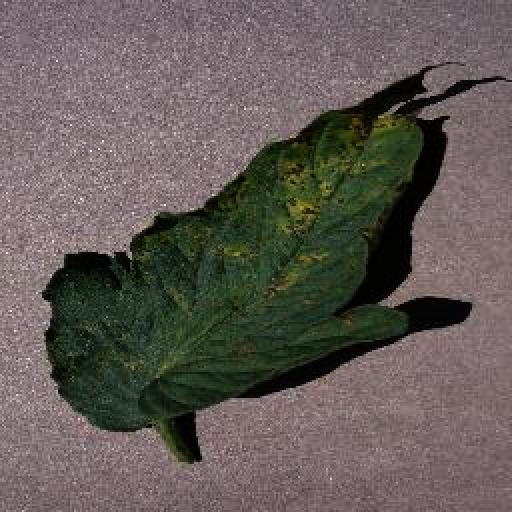disease_tomato: (44, 60, 424, 426)
